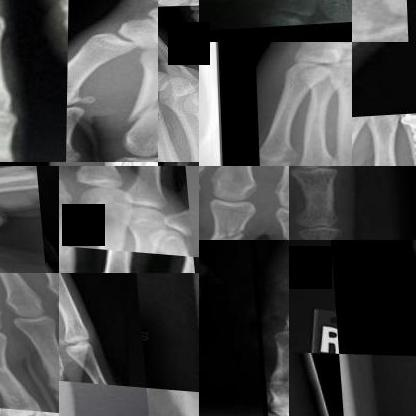fracture: (115, 74, 157, 136), (199, 211, 257, 240), (390, 113, 415, 165), (267, 203, 288, 239), (0, 342, 19, 380), (157, 238, 188, 251)
